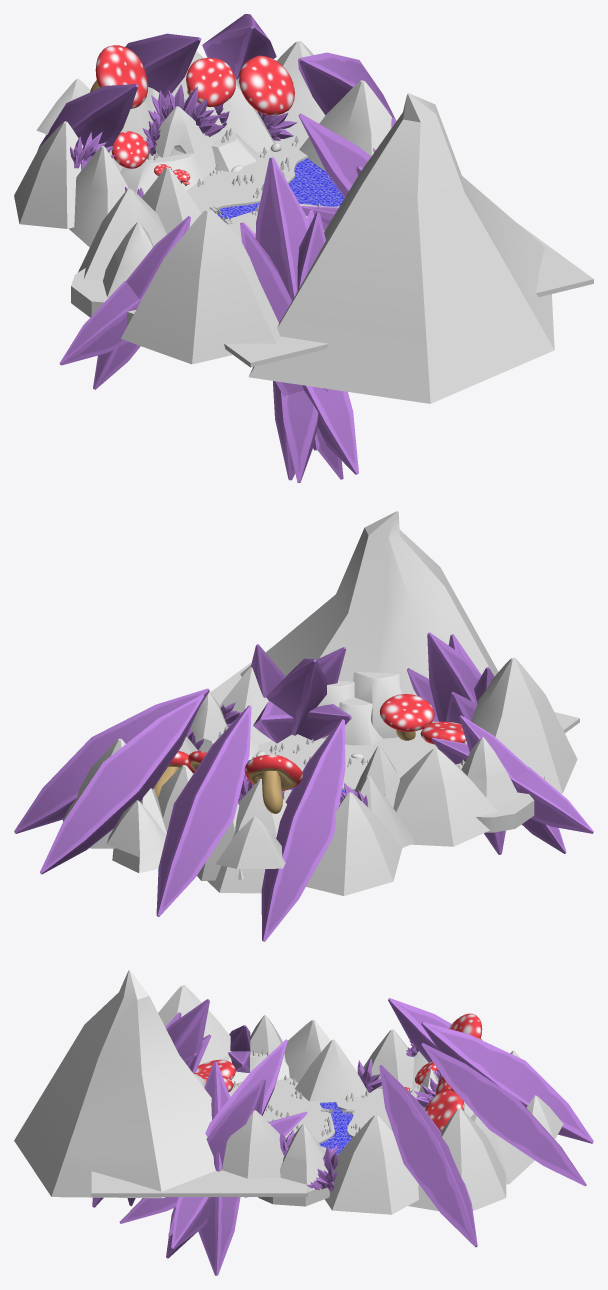
The model's file is SaplingMap.fbx.
3 views of the same model, one above another, from view 1: azimuth 30°, elevation 25°; view 2: azimuth 150°, elevation 25°; view 3: azimuth 270°, elevation 25° (orthographic). The views are drawn at different scales.
Parts seen in each view (by area): view 1: Cube.075, Cube.074, Cube.072, LargeCrystal.262, Plane.005, Cube.052, Plane.004, Cube.063, LargeCrystal.193, Cube.061, Cube.055, LargeCrystal.194 (+21 smaller); view 2: Cube.075, LargeCrystal.196, LargeCrystal.195, LargeCrystal.193, Cube.074, Cube.055, Cube.072, LargeCrystal.194, Plane.005, Cube.083, LargeCrystal.338, LargeCrystal.262 (+26 smaller); view 3: Cube.075, LargeCrystal.194, Cube.063, Plane.005, LargeCrystal.195, LargeCrystal.196, Cube.062, Cube.076, LargeCrystal.325, Cube.077, Cube.080, LargeCrystal.326 (+17 smaller).
Boxes of the visible parts, left/top/right/bottom form: Cube.075: left=249, top=93, right=554, bottom=403; Cube.074: left=120, top=209, right=279, bottom=364; Cube.072: left=14, top=121, right=83, bottom=228; LargeCrystal.262: left=255, top=157, right=319, bottom=450; Plane.005: left=224, top=204, right=593, bottom=367; Cube.052: left=120, top=106, right=216, bottom=194; Plane.004: left=143, top=140, right=307, bottom=213; Cube.063: left=299, top=80, right=392, bottom=171; LargeCrystal.193: left=37, top=84, right=138, bottom=150; Cube.061: left=69, top=146, right=128, bottom=247; Cube.055: left=78, top=188, right=166, bottom=280; LargeCrystal.194: left=298, top=52, right=395, bottom=119; Cube.075: left=240, top=511, right=498, bottom=737; LargeCrystal.196: left=156, top=705, right=251, bottom=916; LargeCrystal.195: left=40, top=694, right=204, bottom=874; LargeCrystal.193: left=261, top=719, right=345, bottom=941; Cube.074: left=471, top=657, right=577, bottom=793; Cube.055: left=393, top=748, right=497, bottom=846; Cube.072: left=306, top=792, right=402, bottom=895; LargeCrystal.194: left=14, top=688, right=209, bottom=833; Plane.005: left=210, top=647, right=579, bottom=790; Cube.083: left=456, top=737, right=534, bottom=832; LargeCrystal.338: left=431, top=738, right=593, bottom=833; LargeCrystal.262: left=427, top=632, right=480, bottom=721; Cube.075: left=14, top=970, right=215, bottom=1198; LargeCrystal.194: left=379, top=1065, right=477, bottom=1247; Cube.063: left=325, top=1115, right=418, bottom=1214; Plane.005: left=91, top=1077, right=334, bottom=1196; LargeCrystal.195: left=421, top=1043, right=586, bottom=1186; LargeCrystal.196: left=421, top=1022, right=593, bottom=1143; Cube.062: left=408, top=1108, right=506, bottom=1211; Cube.076: left=222, top=1110, right=283, bottom=1197; LargeCrystal.325: left=198, top=1061, right=240, bottom=1275; Cube.077: left=295, top=1039, right=368, bottom=1102; Cube.080: left=258, top=1124, right=329, bottom=1206; LargeCrystal.326: left=166, top=1079, right=265, bottom=1258.
Size of the model in its own units: 177190 by 122535 by 229997.
